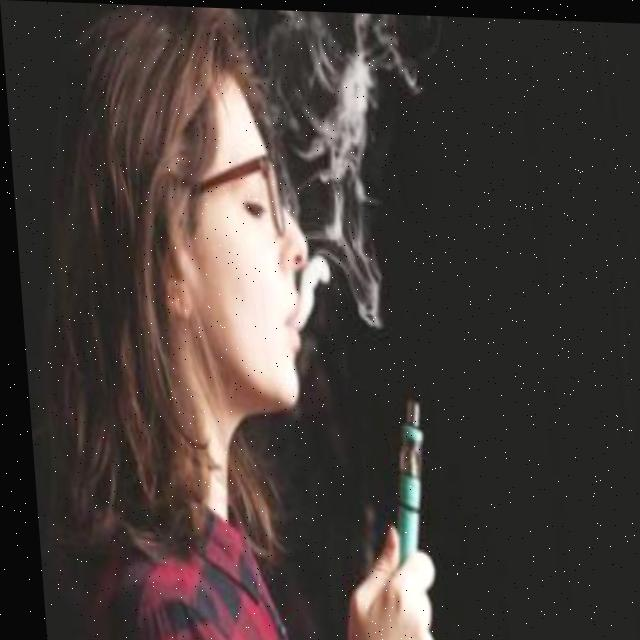vape: (381, 394, 427, 562)
